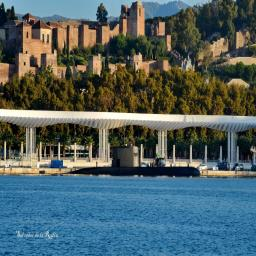submarine: (58, 145, 206, 176)
